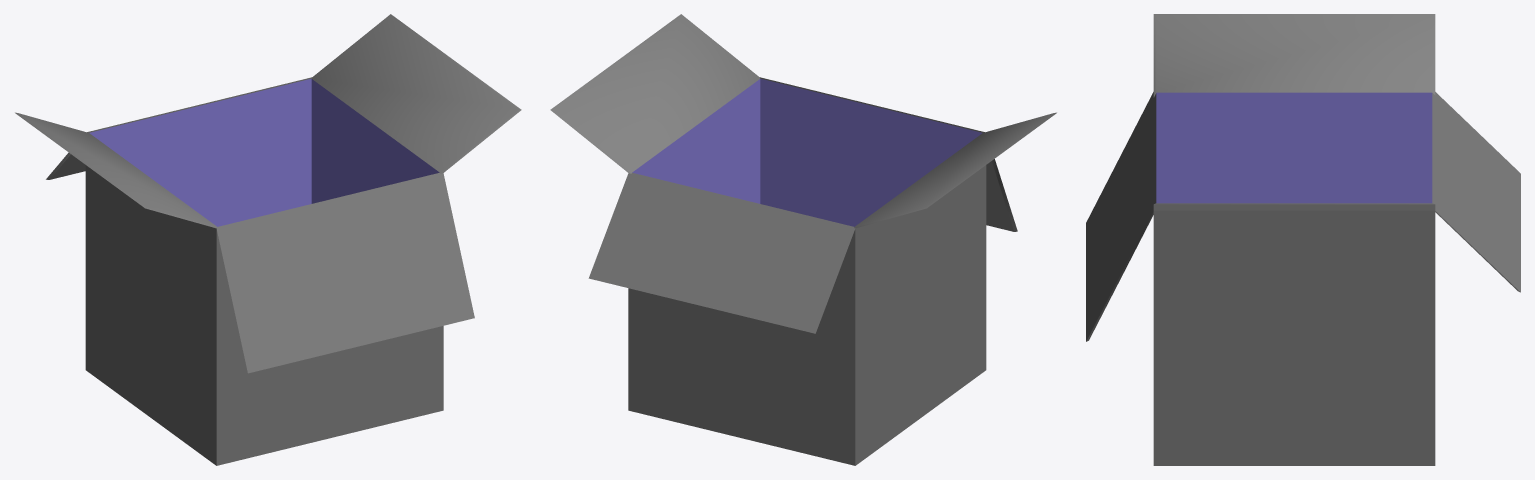
The model's file is carton5.fbx.
3 views of the same model, side by side, from view 1: azimuth 30°, elevation 25°; view 2: azimuth 150°, elevation 25°; view 3: azimuth 270°, elevation 25° (orthographic). The views are drawn at different scales.
Parts seen in each view (by area): view 1: Box001; view 2: Box001; view 3: Box001.
Boxes of the visible parts, box(x1,y1,x2,y2) form: Box001: box(15, 14, 521, 465); Box001: box(550, 14, 1056, 465); Box001: box(1086, 14, 1520, 465).
Bounding box in the file's own units: 1.11 × 0.7939 × 1.03.
